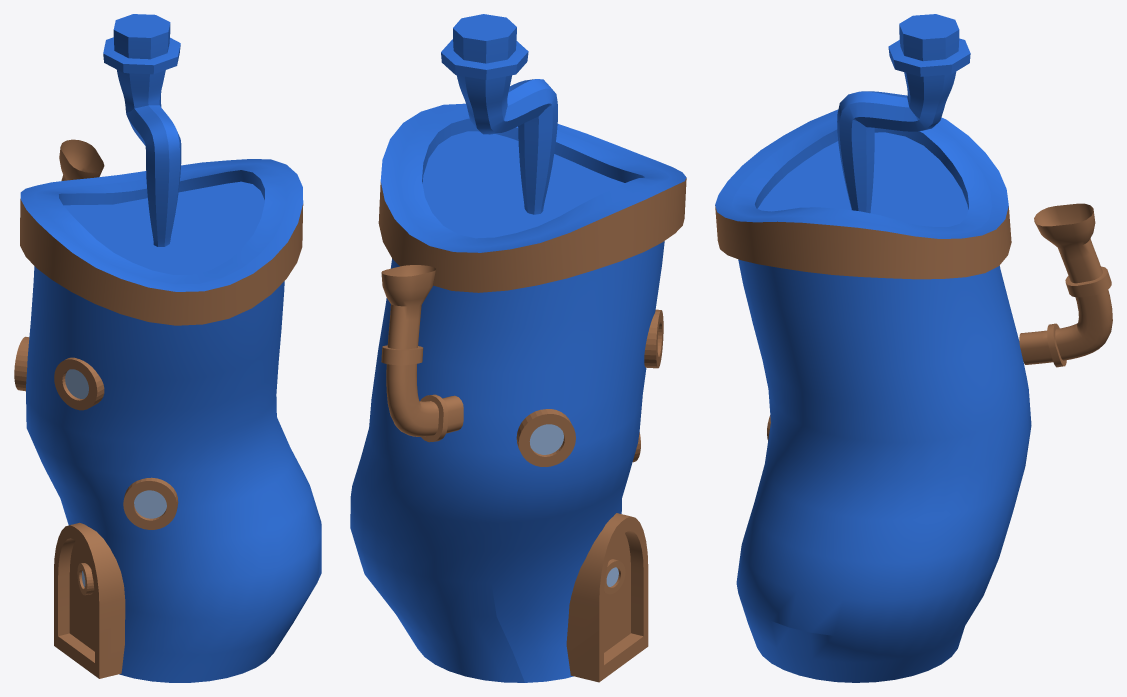
The model's file is Mofle_azul.fbx.
3 renders of one model, left to right at view 1: azimuth 30°, elevation 25°; view 2: azimuth 150°, elevation 25°; view 3: azimuth 270°, elevation 25°, orthographic. The views are drawn at different scales.
Visible parts, largest first — view 1: Circle.007; view 2: Circle.007; view 3: Circle.007.
Part boxes in pixels (x1=…): Circle.007: x1=14, y1=14, x2=321, y2=682; Circle.007: x1=350, y1=14, x2=686, y2=682; Circle.007: x1=715, y1=14, x2=1112, y2=682.
Size of the model in its own units: 11.54 by 24.04 by 14.16.
